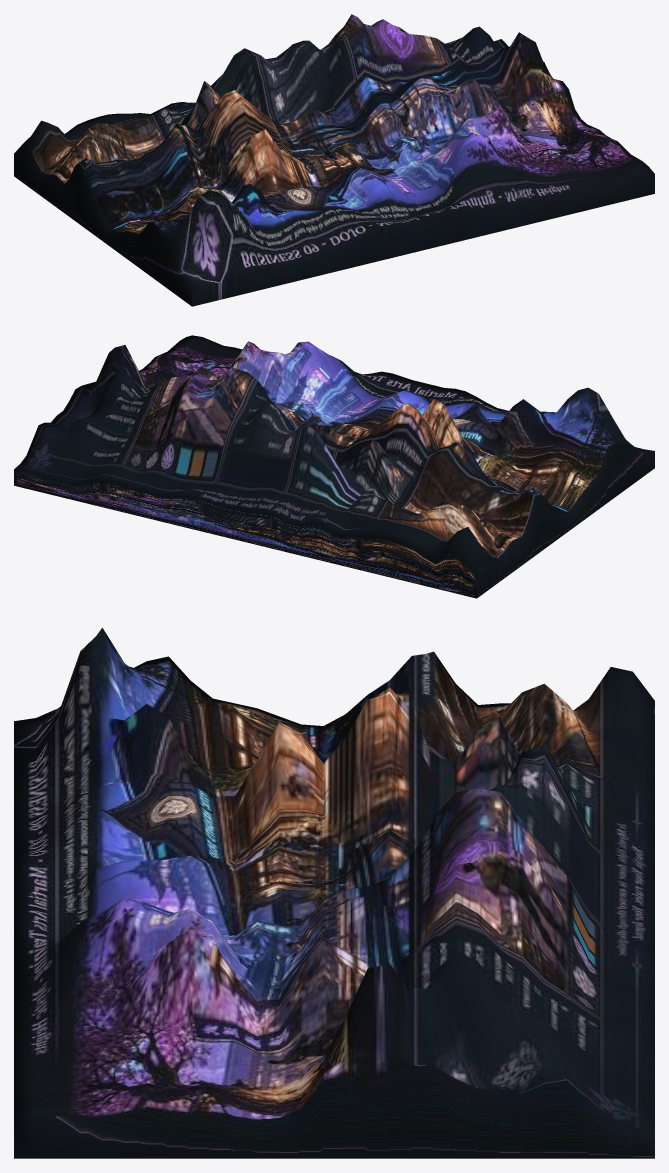
Rendered from BUSINESS_09_Dojo.glb.
3 renders of one model, top to bottom at view 1: azimuth 30°, elevation 25°; view 2: azimuth 150°, elevation 25°; view 3: azimuth 270°, elevation 25°, orthographic. The views are drawn at different scales.
Parts seen in each view (by area): view 1: BUSINESS_09_Dojo; view 2: BUSINESS_09_Dojo; view 3: BUSINESS_09_Dojo.
Part boxes in pixels (x1,y1,x2,y2): BUSINESS_09_Dojo: (14, 14, 654, 306); BUSINESS_09_Dojo: (14, 335, 654, 598); BUSINESS_09_Dojo: (14, 627, 654, 1158).
Size of the model in its own units: 2 by 0.51 by 1.33.
1 material, 1 textured.
